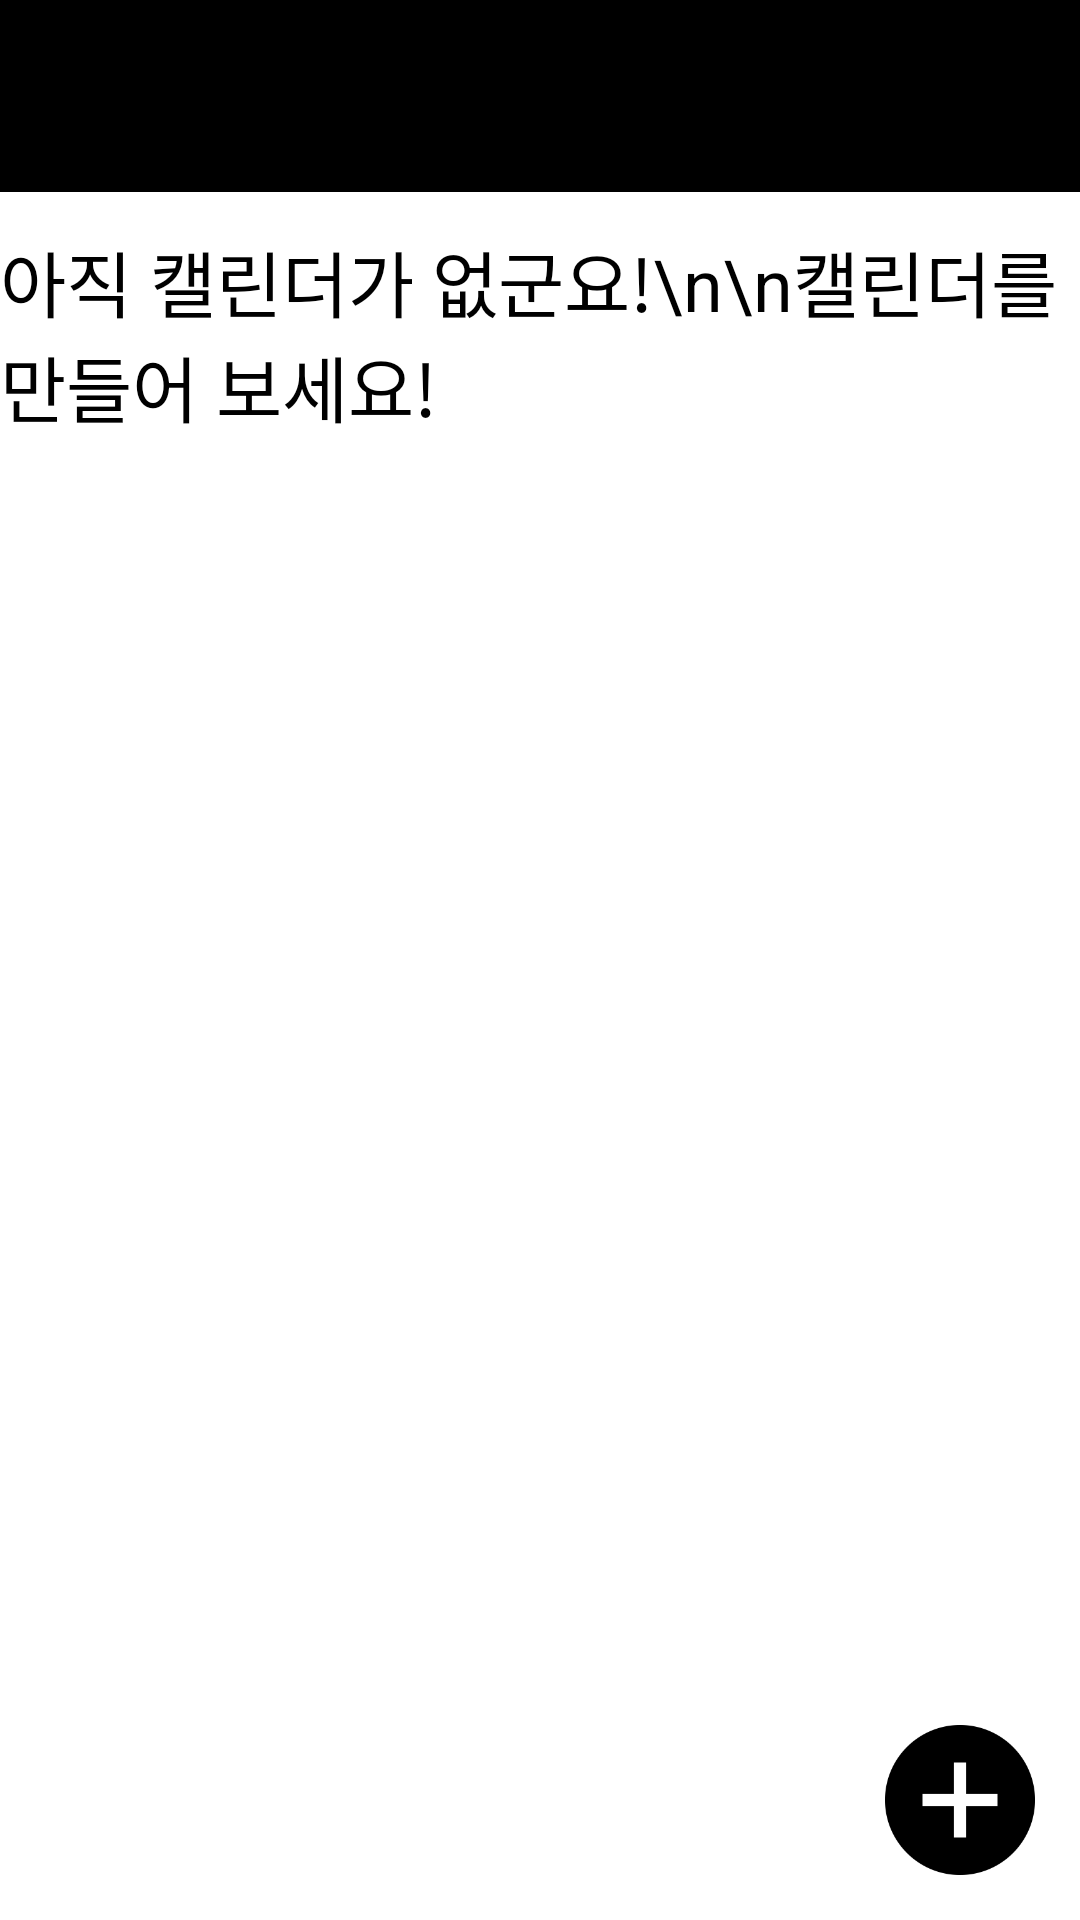

Icon bounding boxes for this 1080x1920 phone screenshot, format bbox(x1, y1, x2, y2):
add: bbox(885, 1725, 1035, 1875)
